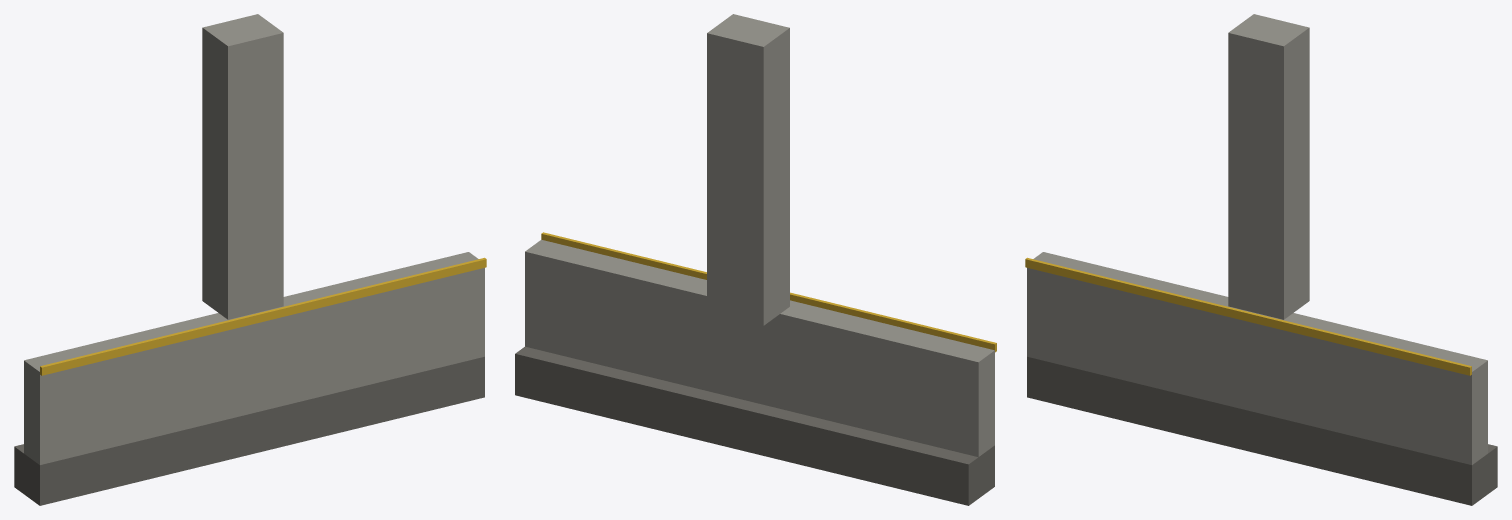
File: cc_open.glb
3 views of the same model, side by side, from view 1: azimuth 30°, elevation 25°; view 2: azimuth 150°, elevation 25°; view 3: azimuth 330°, elevation 25° (orthographic).
Parts seen in each view (by area): view 1: city_cc_open; view 2: city_cc_open; view 3: city_cc_open.
Boxes of the visible parts, x1,y1,x2,y2 form: city_cc_open: [14, 14, 486, 505]; city_cc_open: [515, 14, 996, 505]; city_cc_open: [1025, 14, 1497, 505].
Size of the model in its own units: 4 by 3.5 by 0.53.
1 material, 1 textured.
